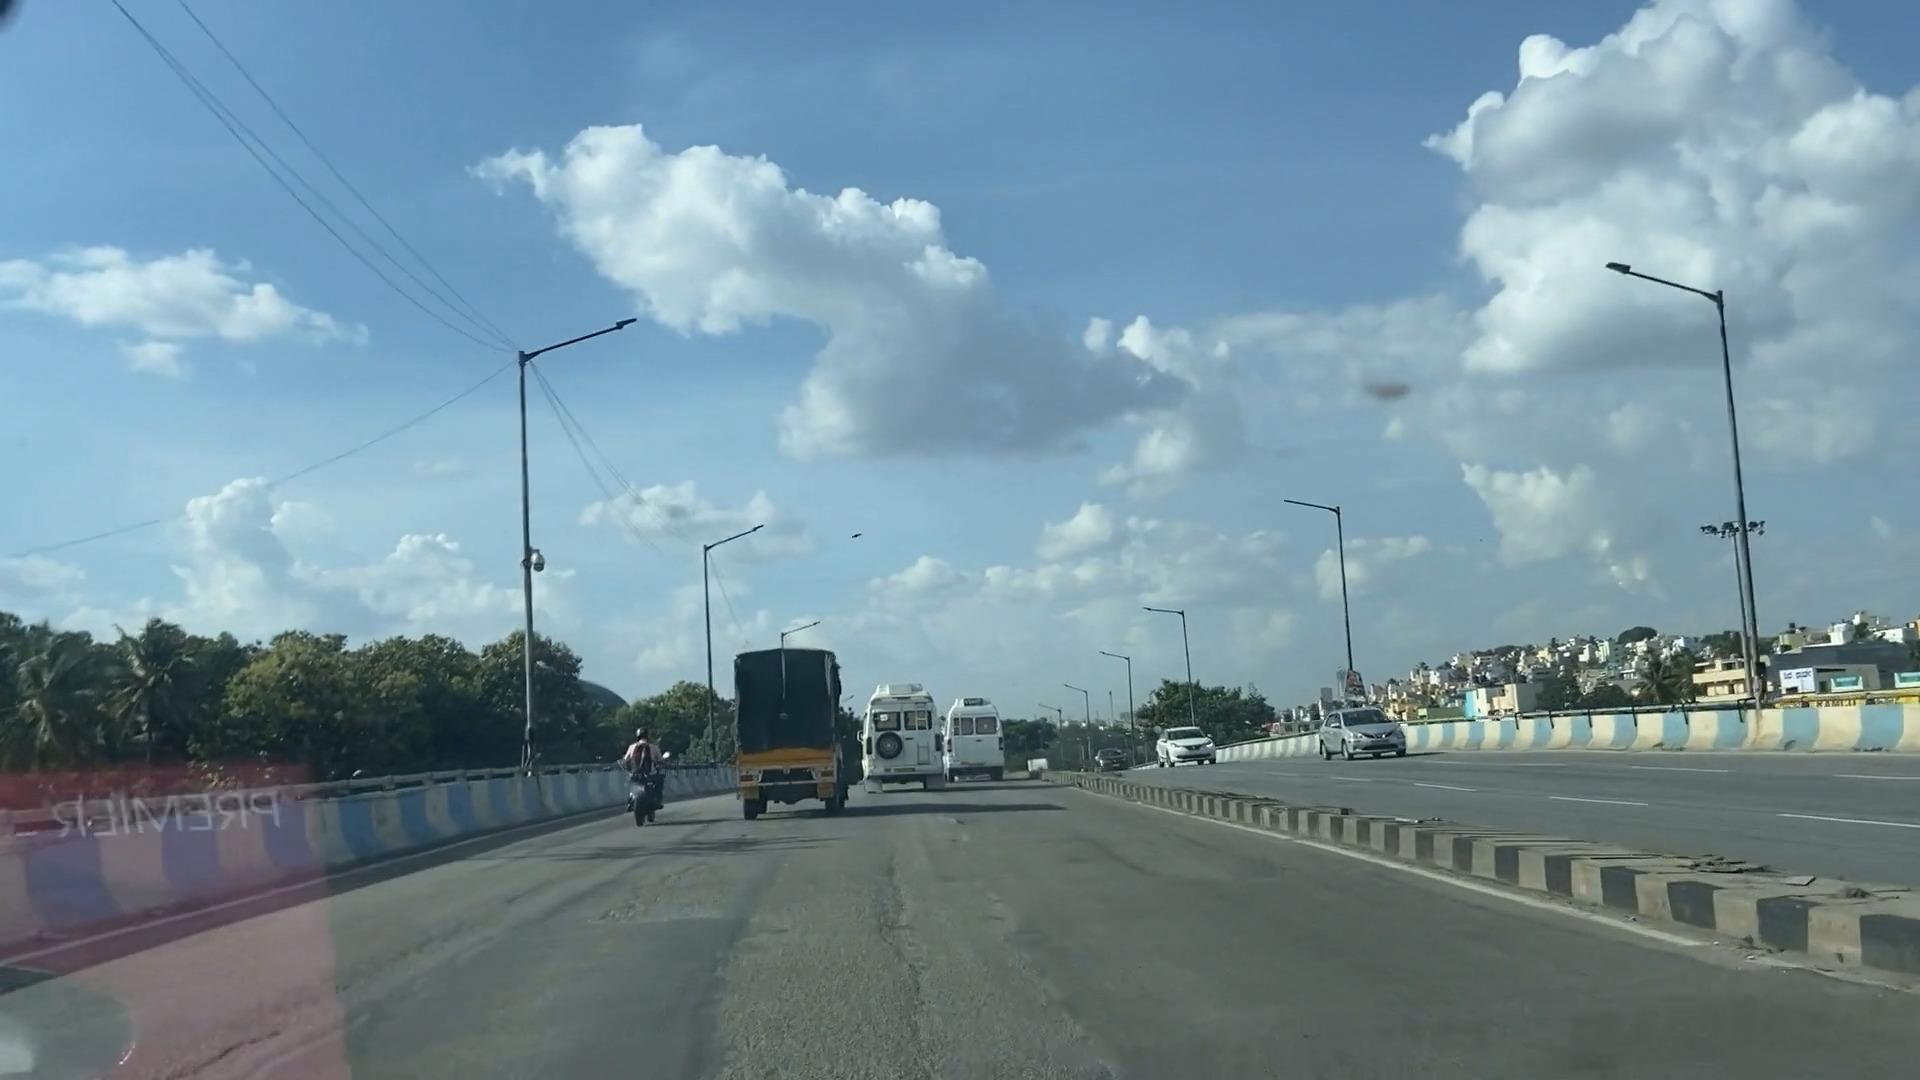HMV: (724, 642, 854, 823), (866, 686, 951, 800), (950, 694, 1022, 779)
LMV: (604, 708, 665, 797)
RoadDamages: (618, 844, 1150, 1080), (164, 958, 399, 1072)
